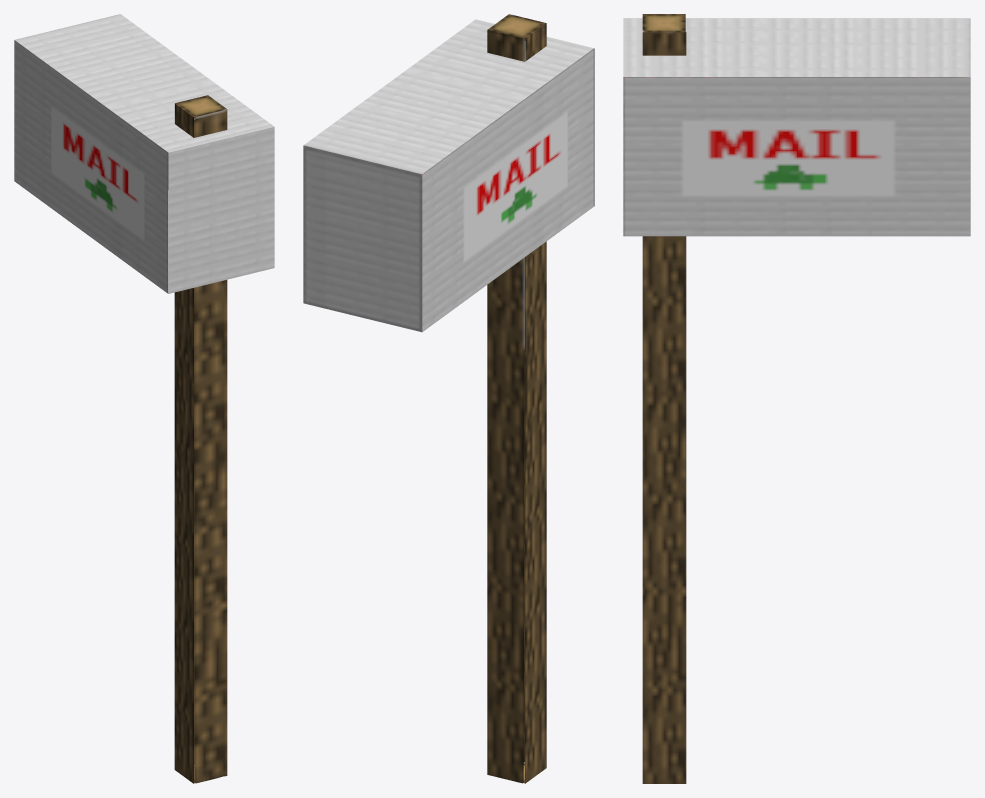
File: mailbox2.obj
3 renders of one model, left to right at view 1: azimuth 30°, elevation 25°; view 2: azimuth 150°, elevation 25°; view 3: azimuth 270°, elevation 25°, orthographic. The views are drawn at different scales.
Size of the model in its own units: 0.5568 by 3.34 by 1.4.
2 materials, 2 textured.
